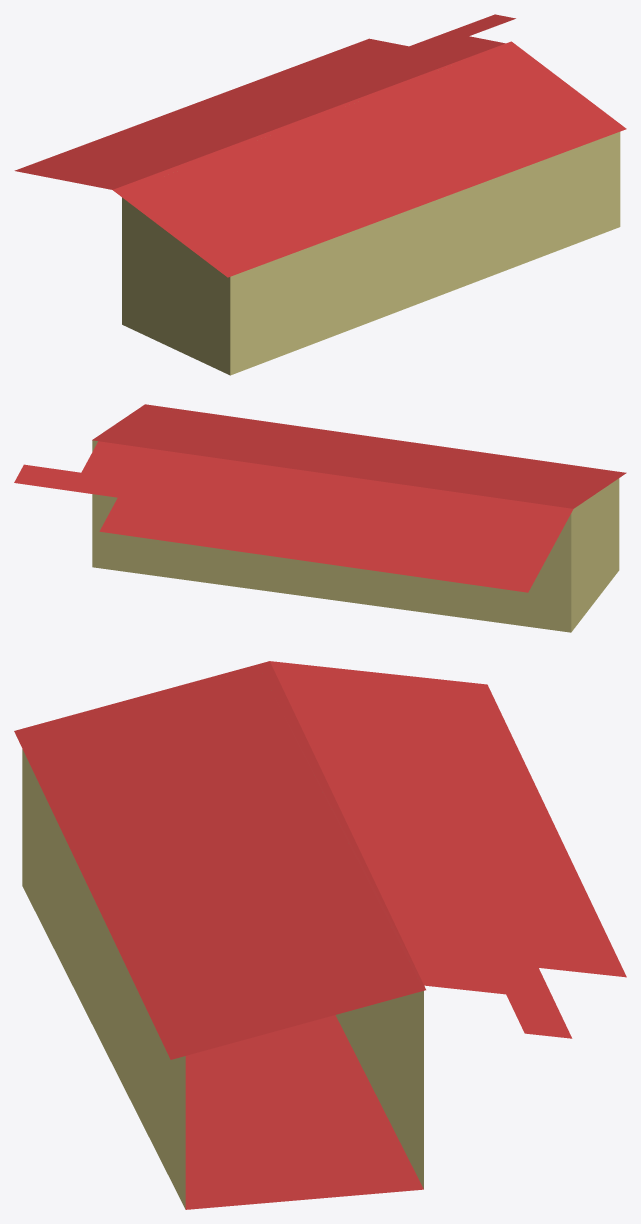
3 renders of one model, top to bottom at view 1: azimuth 30°, elevation 25°; view 2: azimuth 150°, elevation 25°; view 3: azimuth 270°, elevation 25°, orthographic. The views are drawn at different scales.
Size of the model in its own units: 41.16 by 28.41 by 10.19.
